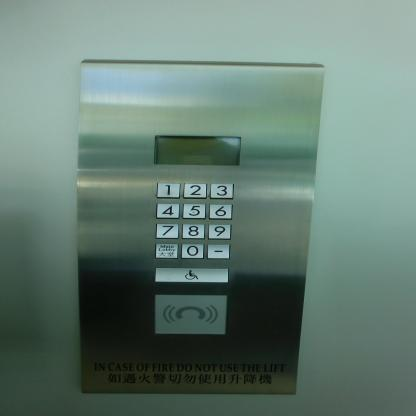-: (207, 243, 231, 260)
0: (180, 243, 205, 259)
1: (156, 182, 180, 199)
2: (182, 182, 207, 199)
3: (209, 183, 235, 200)
4: (156, 203, 180, 219)
5: (182, 204, 206, 219)
6: (208, 204, 233, 220)
7: (155, 223, 180, 239)
8: (182, 223, 206, 240)
9: (207, 223, 232, 240)
CH: (155, 267, 229, 283)
led: (151, 131, 243, 168)
text: (155, 243, 179, 259)
